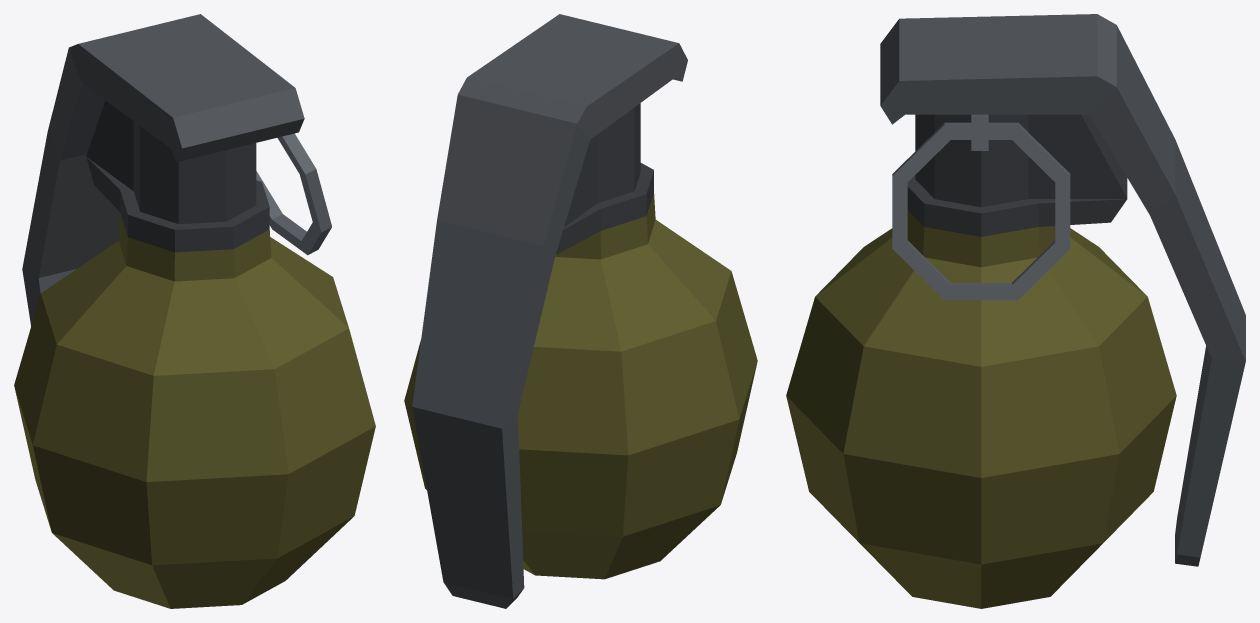
Rendered from SM_Wep_Grenade_01.fbx.
The picture shows the model from 3 angles, left to right: view 1: azimuth 30°, elevation 25°; view 2: azimuth 150°, elevation 25°; view 3: azimuth 270°, elevation 25°; orthographic projection. The views are drawn at different scales.
Parts seen in each view (by area): view 1: SM_Wep_Grenade_01, SM_Wep_Grenade_Clip_01, SM_Wep_Grenade_Pin_01; view 2: SM_Wep_Grenade_01, SM_Wep_Grenade_Clip_01; view 3: SM_Wep_Grenade_01, SM_Wep_Grenade_Clip_01, SM_Wep_Grenade_Pin_01.
Part boxes in pixels (left/top/right/bottom): SM_Wep_Grenade_01: left=14, top=100, right=375, bottom=608; SM_Wep_Grenade_Clip_01: left=22, top=14, right=304, bottom=326; SM_Wep_Grenade_Pin_01: left=256, top=133, right=331, bottom=255; SM_Wep_Grenade_01: left=404, top=103, right=757, bottom=579; SM_Wep_Grenade_Clip_01: left=412, top=14, right=687, bottom=608; SM_Wep_Grenade_01: left=786, top=114, right=1176, bottom=608; SM_Wep_Grenade_Clip_01: left=880, top=14, right=1245, bottom=566; SM_Wep_Grenade_Pin_01: left=892, top=114, right=1070, bottom=300.
Bounding box in the file's own units: 8.63 × 13.07 × 10.15.
